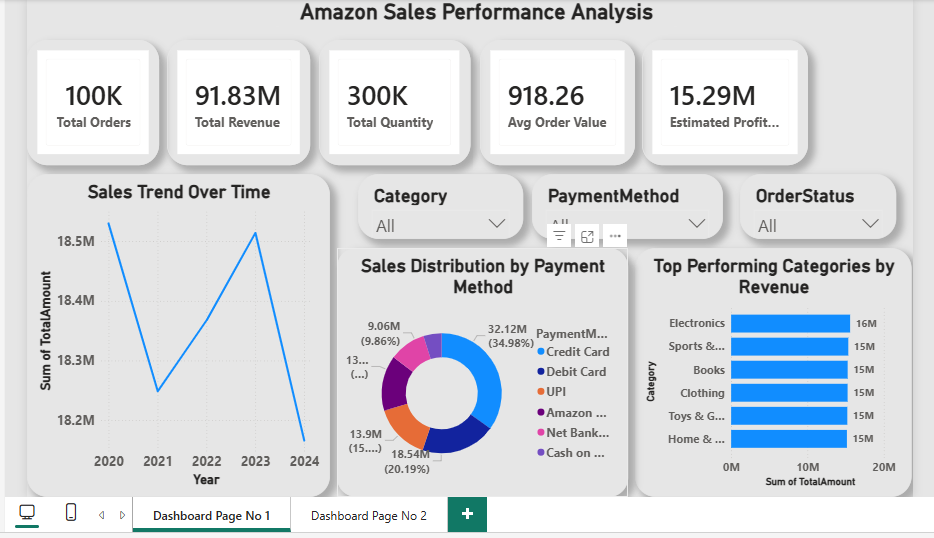

Layout of this report page (visuals, bound fields, positions):
{"tool":"powerbi","page":{"name":"Dashboard Page No 1","canvas":[1280,720],"ordinal":0},"visuals":[{"type":"cardVisual","fields":{"Data":["Amazon.Total Orders"]},"box":[0,58.8,191,180.7],"z":0},{"type":"cardVisual","fields":{"Data":["Amazon.Total Revenue"]},"box":[202.8,58.8,207.2,180.7],"z":1000},{"type":"cardVisual","fields":{"Data":["Amazon.Total Quantity"]},"box":[421.7,58.8,218.9,180.7],"z":2000},{"type":"cardVisual","fields":{"Data":["Amazon.Avg Order Value"]},"box":[654.9,59.3,224.1,180.7],"z":3000},{"type":"cardVisual","fields":{"Data":["Amazon.Estimated Profit (Category-based)"]},"box":[889.2,59.3,240,180.7],"z":4000},{"type":"slicer","fields":{"Values":["Amazon.Category"]},"box":[478.6,253,238.6,94],"z":5000},{"type":"slicer","fields":{"Values":["Amazon.PaymentMethod"]},"box":[730.3,252.7,276.2,94],"z":6000},{"type":"slicer","fields":{"Values":["Amazon.OrderStatus"]},"box":[1031.5,252.7,226.3,94],"z":7000},{"type":"lineChart","title":"Sales Trend Over Time","fields":{"Category":["Amazon.OrderDate.Variation.Date Hierarchy.Year","Amazon.OrderDate.Variation.Date Hierarchy.Quarter","Amazon.OrderDate.Variation.Date Hierarchy.Month"],"Y":["Sum(Amazon.TotalAmount)"]},"box":[0,252.7,437.9,467.3],"z":8000},{"type":"clusteredBarChart","title":"Top Performing Categories by Revenue","fields":{"Category":["Amazon.Category"],"Y":["Sum(Amazon.TotalAmount)"]},"box":[879,360,400.5,360],"z":9000},{"type":"donutChart","title":"Sales Distribution by Payment Method","fields":{"Category":["Amazon.PaymentMethod"],"Y":["Sum(Amazon.TotalAmount)"]},"box":[448.2,360,420.7,360],"z":10000},{"type":"textbox","title":"Amazon Sales Performance Analysis","box":[360,0,580.4,39.7],"z":11000}]}

Visuals, with their boxes on the page's 1280x720 design canvas (x1, y1, x2, y2). These are canvas units, not pixel positions in the 934x538 screenshot, which may show the page scaled, cropped or inside an application window:
cardVisual - Amazon.Total Orders: 0:59:191:240
cardVisual - Amazon.Total Revenue: 203:59:410:240
cardVisual - Amazon.Total Quantity: 422:59:641:240
cardVisual - Amazon.Avg Order Value: 655:59:879:240
cardVisual - Amazon.Estimated Profit (Category-based): 889:59:1129:240
slicer - Amazon.Category: 479:253:717:347
slicer - Amazon.PaymentMethod: 730:253:1006:347
slicer - Amazon.OrderStatus: 1032:253:1258:347
"Sales Trend Over Time" lineChart: 0:253:438:720
"Top Performing Categories by Revenue" clusteredBarChart: 879:360:1280:720
"Sales Distribution by Payment Method" donutChart: 448:360:869:720
"Amazon Sales Performance Analysis" textbox: 360:0:940:40
